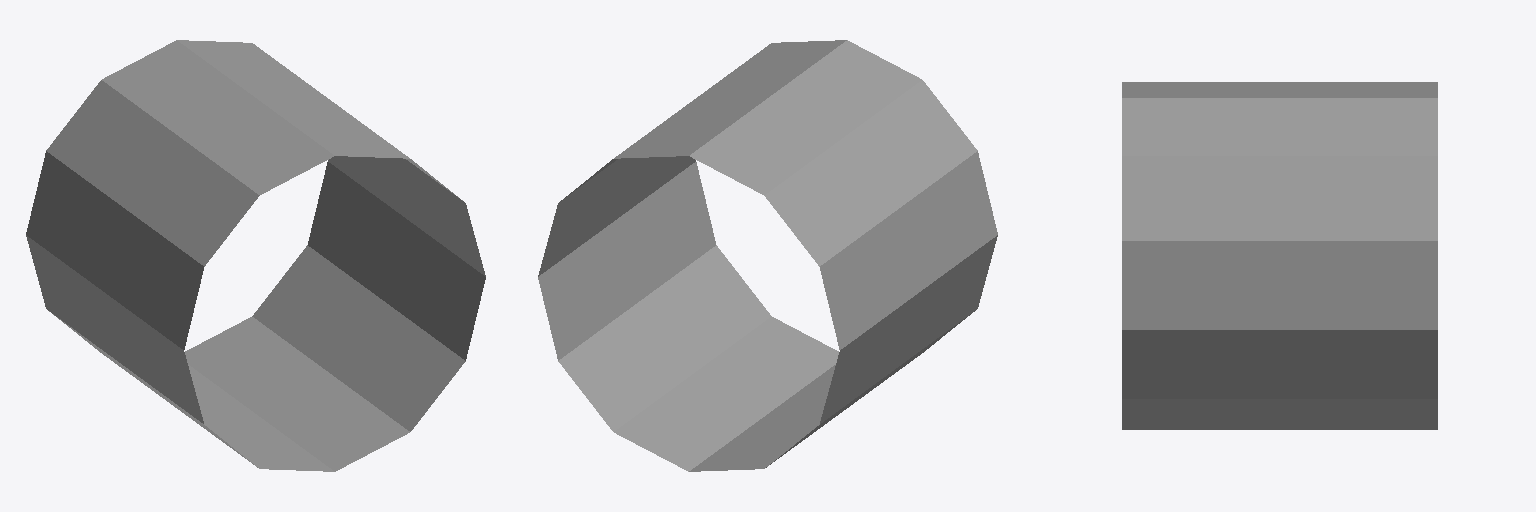
The model's file is WallGunBarrel.obj.
The picture shows the model from 3 angles: view 1: azimuth 30°, elevation 25°; view 2: azimuth 150°, elevation 25°; view 3: azimuth 270°, elevation 25°; orthographic projection.
Parts seen in each view (by area): view 1: Cube.003; view 2: Cube.003; view 3: Cube.003.
Boxes of the visible parts, <box> form: Cube.003: <box>26,40,485,471</box>; Cube.003: <box>538,40,997,471</box>; Cube.003: <box>1122,82,1437,429</box>.
Size of the model in its own units: 2.2 by 2.2 by 2.